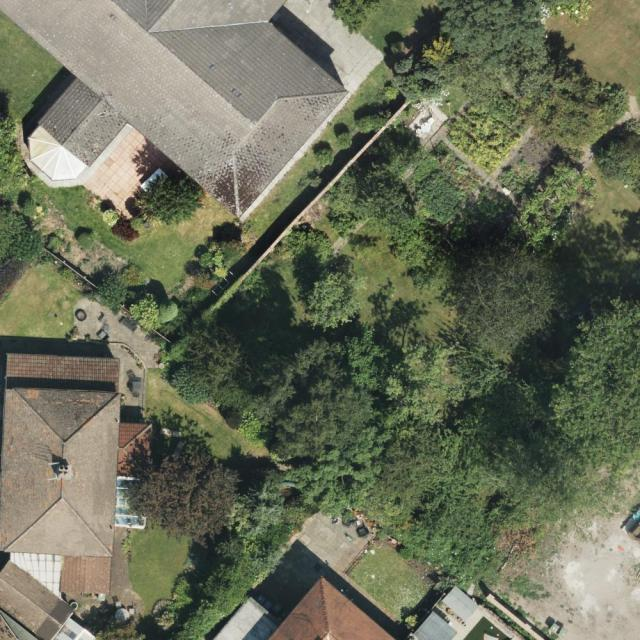roof: (0, 0, 351, 220), (0, 355, 157, 592), (211, 576, 396, 640), (0, 560, 75, 640)
